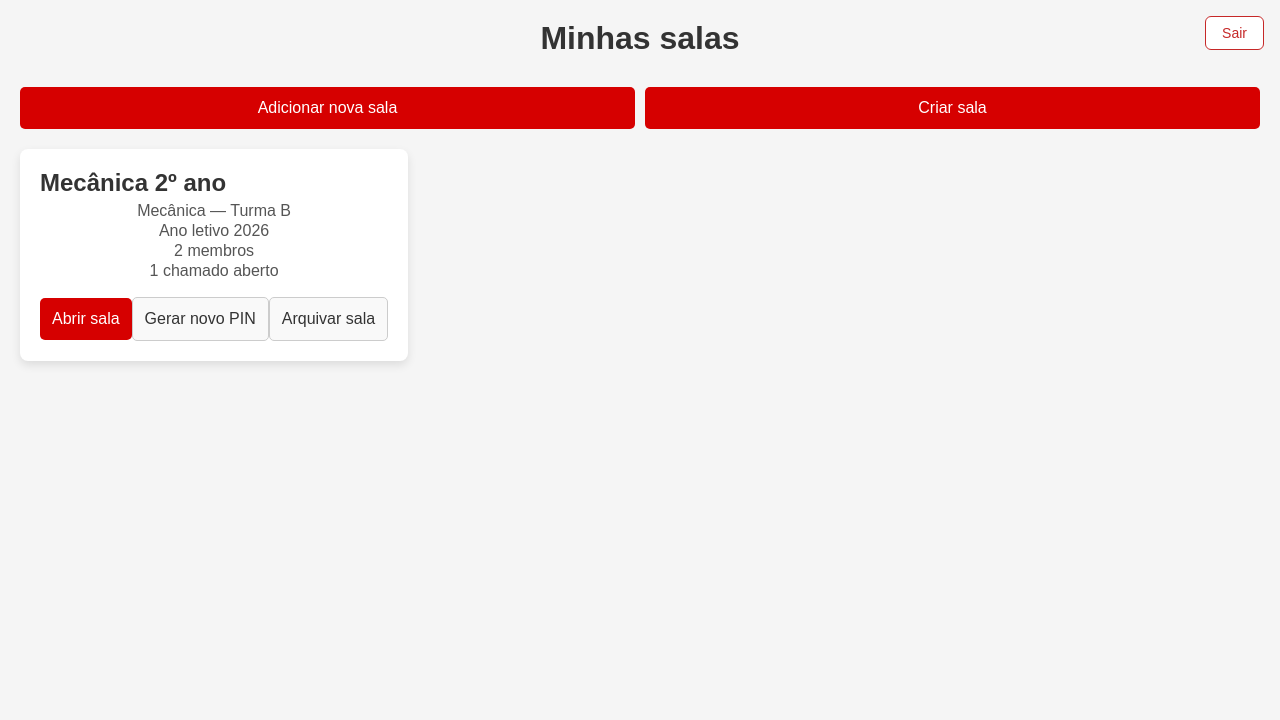
Test case: MinhasSalas — o professor dono (AC-SALA-08) › gera um PIN novo e o mostra em destaque (AC-SALA-09)
Check: the heading "Minhas salas" is shown, box x1=540 y1=20 x2=740 y2=56
Click the button "Gerar novo PIN".
click(200, 319)  # box x1=132 y1=297 x2=269 y2=341
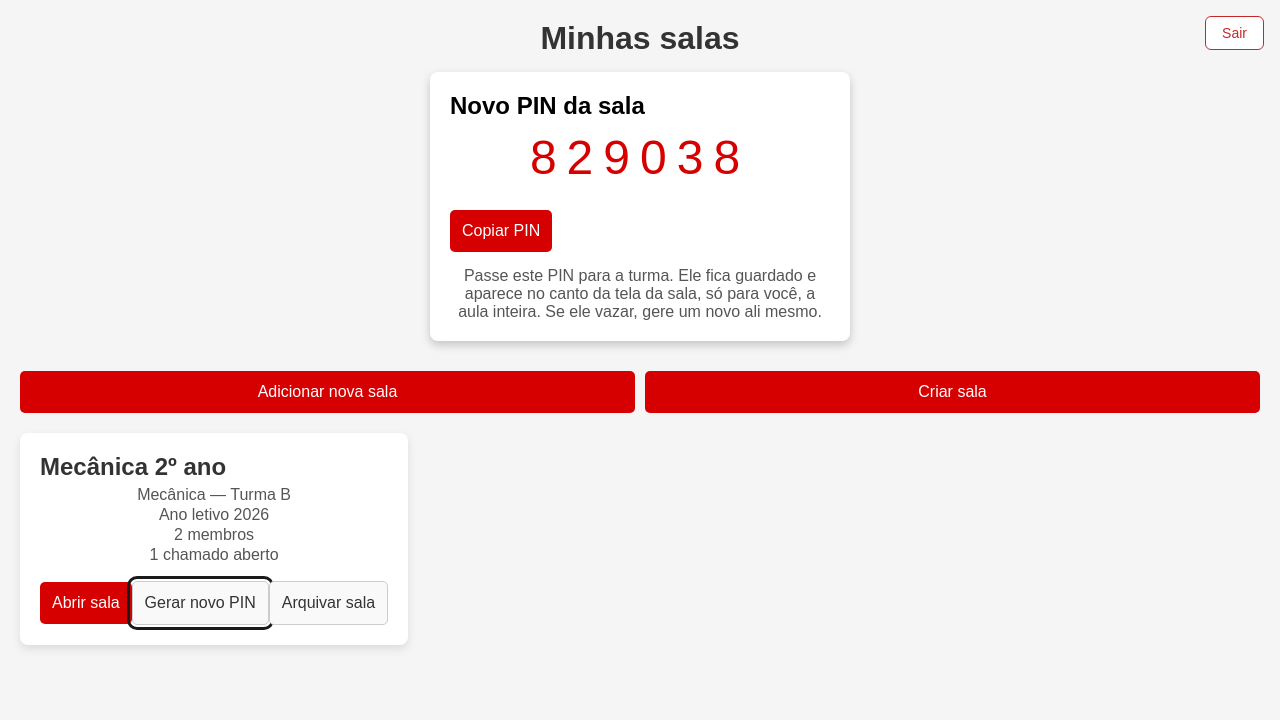
Check: the text with test id "pin-em-destaque" reads "829038", box x1=530 y1=131 x2=750 y2=184
